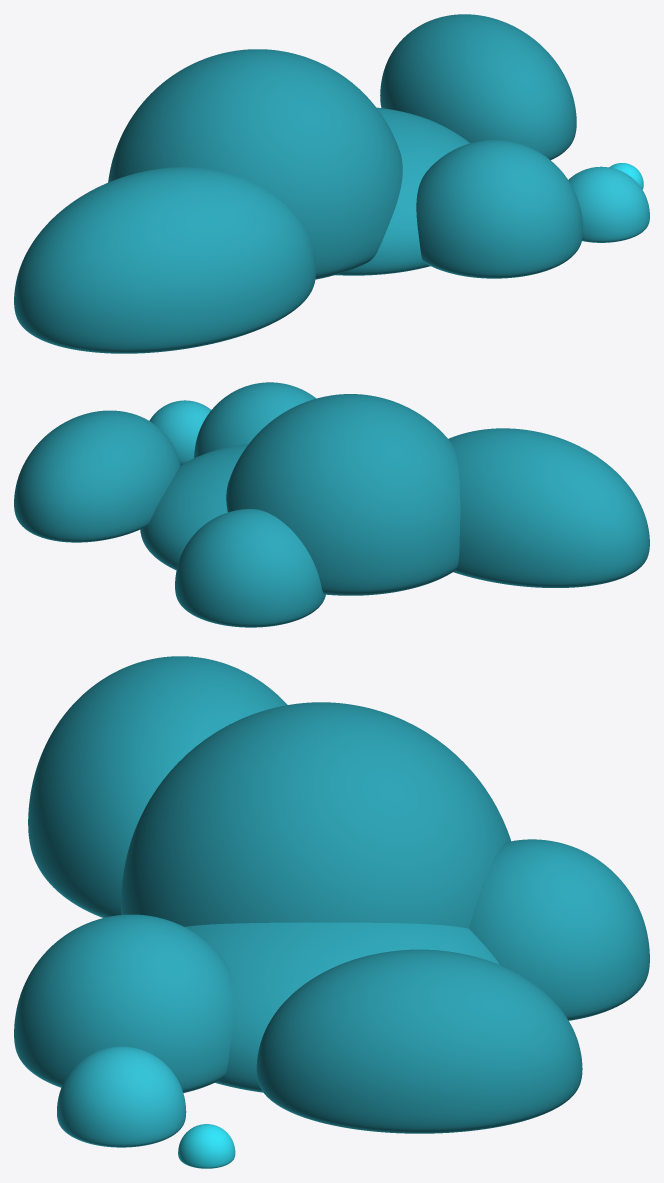
File: cloud.glb
The picture shows the model from 3 angles, top to bottom: view 1: azimuth 30°, elevation 25°; view 2: azimuth 150°, elevation 25°; view 3: azimuth 270°, elevation 25°; orthographic projection. The views are drawn at different scales.
Visible parts, largest first — view 1: Sphere.001, Sphere, Sphere.004, Sphere.005, Sphere.002, Sphere.006; view 2: Sphere, Sphere.001, Sphere.004, Sphere.003, Sphere.002, Sphere.005, Sphere.006; view 3: Sphere, Sphere.004, Sphere.001, Sphere.005, Sphere.003, Sphere.002, Sphere.006, Sphere.007.
Boxes of the visible parts, x1,y1,x2,y2 form: Sphere.001: (14,167,316,353); Sphere: (108,49,402,279); Sphere.004: (380,14,576,160); Sphere.005: (416,140,582,278); Sphere.002: (335,107,469,275); Sphere.006: (568,166,649,242); Sphere: (226,394,460,595); Sphere.001: (448,428,649,587); Sphere.004: (14,410,180,542); Sphere.003: (175,509,325,627); Sphere.002: (140,444,248,570); Sphere.005: (194,382,316,458); Sphere.006: (149,400,211,464); Sphere: (120,702,510,928); Sphere.004: (256,949,582,1133); Sphere.001: (28,656,287,917); Sphere.005: (14,914,234,1092); Sphere.003: (469,839,649,1020); Sphere.002: (185,922,499,1092); Sphere.006: (57,1046,186,1147); Sphere.007: (178,1124,235,1168).
Bounding box in the file's own units: 1.66 × 0.4511 × 1.1.
